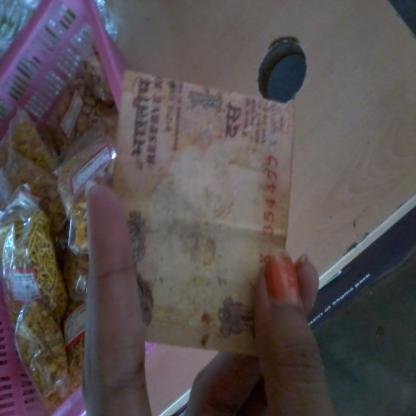Old10Front: (112, 71, 295, 358)
